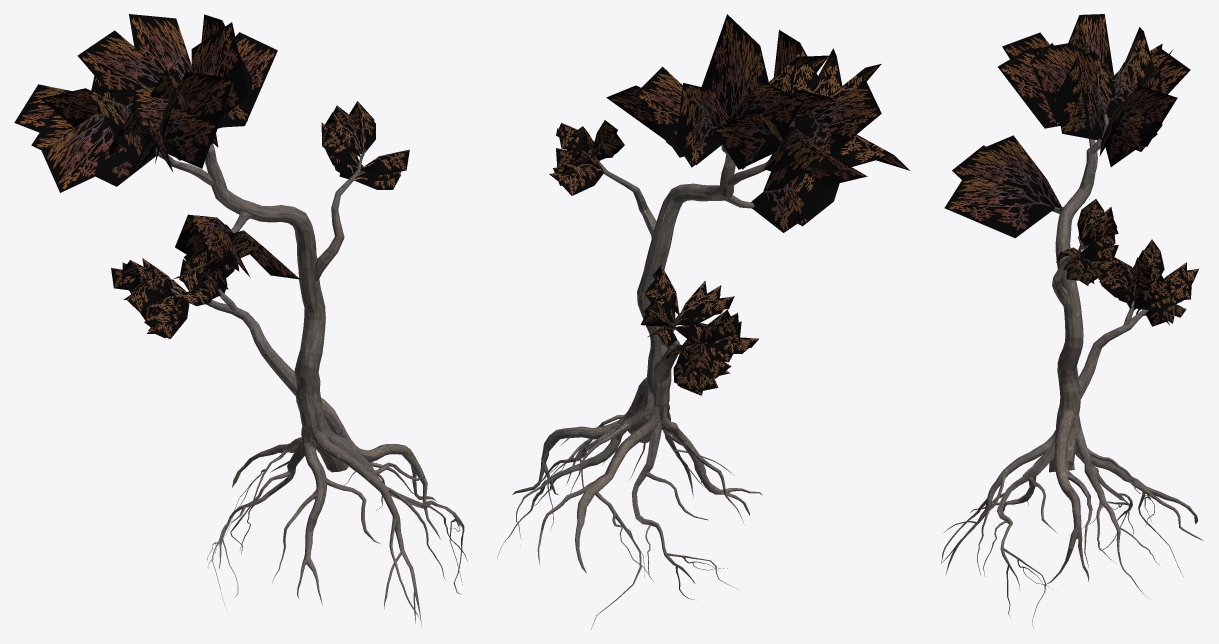
File: House68.fbx
The picture shows the model from 3 angles, left to right: view 1: azimuth 30°, elevation 25°; view 2: azimuth 150°, elevation 25°; view 3: azimuth 270°, elevation 25°; orthographic projection. The views are drawn at different scales.
Parts seen in each view (by area): view 1: AT_BGAgo_TrN04_11B.mo; view 2: AT_BGAgo_TrN04_11B.mo; view 3: AT_BGAgo_TrN04_11B.mo.
Boxes of the visible parts, <box> form: AT_BGAgo_TrN04_11B.mo: <box>14,14,467,627</box>; AT_BGAgo_TrN04_11B.mo: <box>497,14,910,629</box>; AT_BGAgo_TrN04_11B.mo: <box>941,14,1203,628</box>.
Size of the model in its own units: 3811 by 5544 by 2658.
